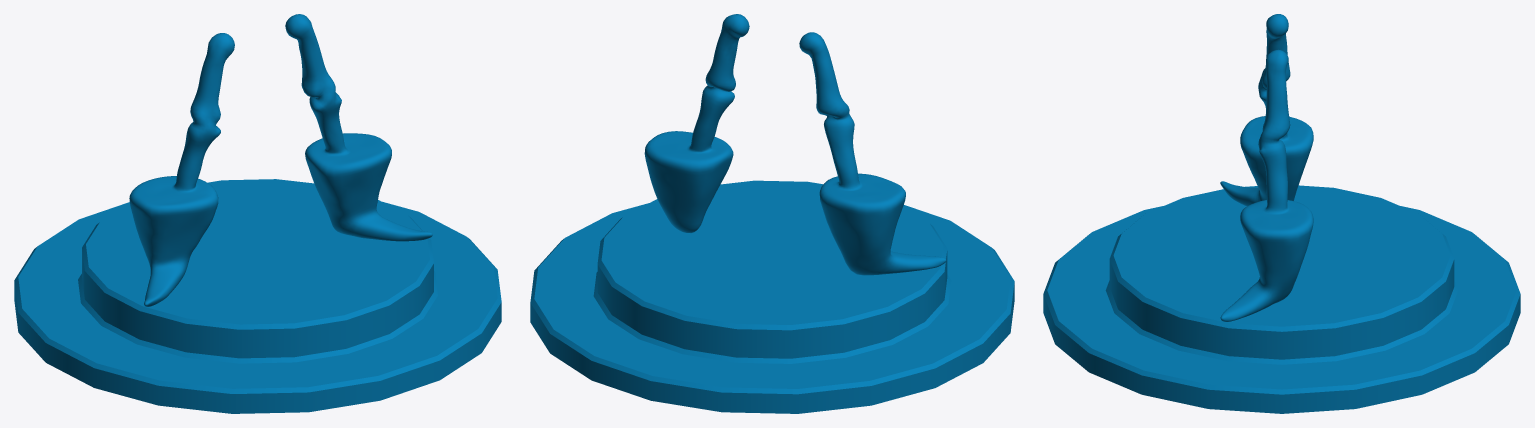
The model's file is SM_Skull_P.fbx.
3 renders of one model, left to right at view 1: azimuth 30°, elevation 25°; view 2: azimuth 150°, elevation 25°; view 3: azimuth 270°, elevation 25°, orthographic. The views are drawn at different scales.
Visible parts, largest first — view 1: SM_Skull_P; view 2: SM_Skull_P; view 3: SM_Skull_P.
Part boxes in pixels (x1=…): SM_Skull_P: x1=14, y1=14, x2=501, y2=413; SM_Skull_P: x1=530, y1=14, x2=1014, y2=413; SM_Skull_P: x1=1043, y1=14, x2=1520, y2=413.
Size of the model in its own units: 12.3 by 7.97 by 12.3.
